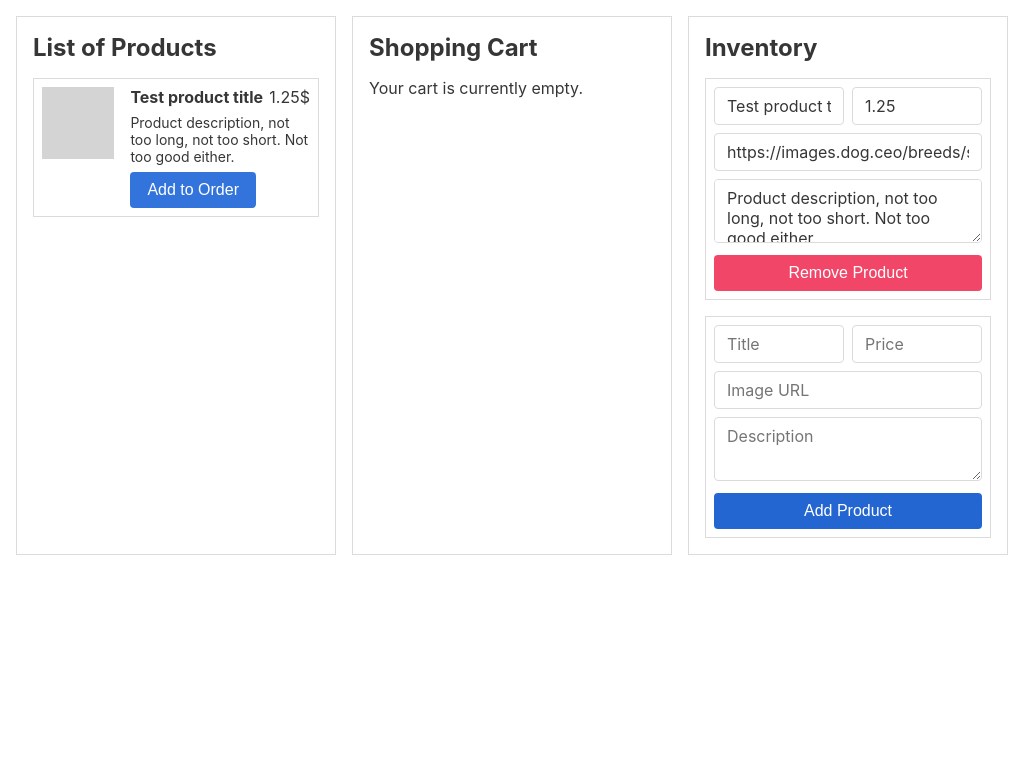
Full Flow of the App › adds an item from the showcase to the cart
Click the button "Add to Order": (193, 190) [130,172,256,208]
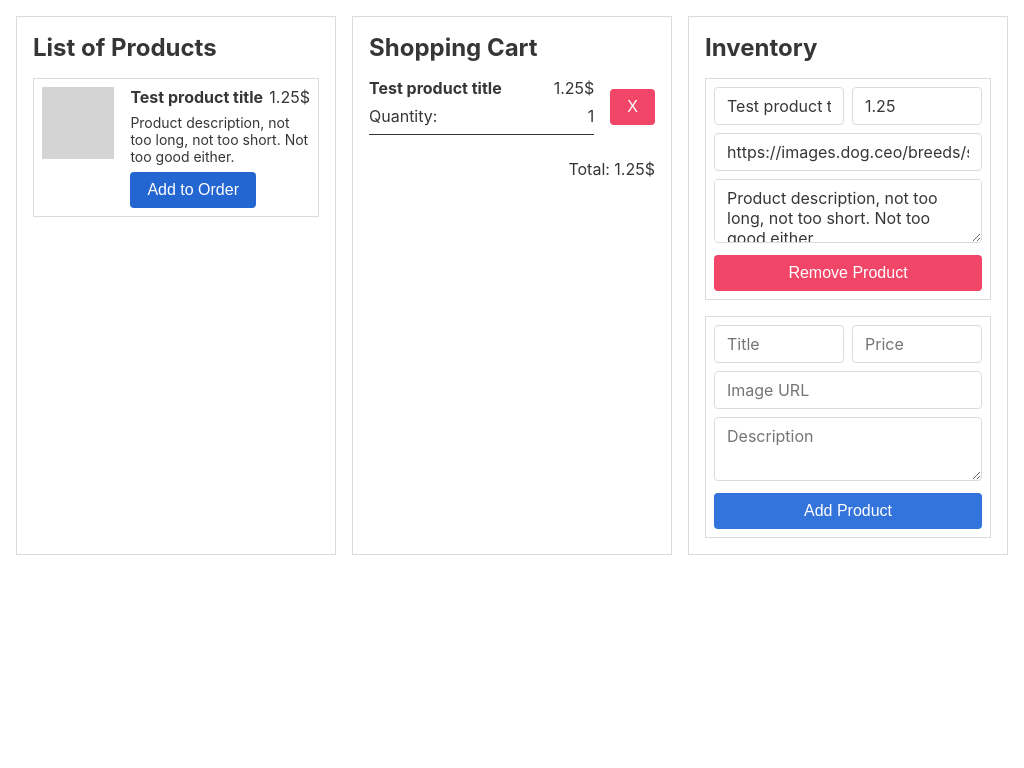
Result: the heading "Test product title" below "Shopping Cart" is shown at [369,78,502,98]
Result: the text "Quantity" is shown at [369,106,433,126]
Result: the text "1" below "Shopping Cart" is shown at [554,78,584,98]
